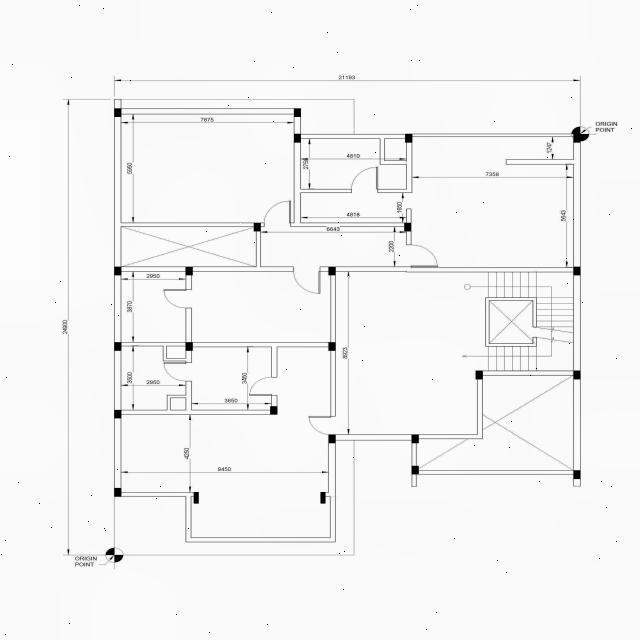Column: (573, 370, 581, 380), (475, 370, 483, 380), (328, 434, 336, 444), (411, 434, 419, 444), (114, 488, 122, 497), (320, 492, 326, 504), (573, 470, 581, 479), (114, 108, 122, 116), (114, 267, 122, 275), (185, 267, 193, 275), (114, 342, 122, 350), (185, 342, 193, 350), (405, 134, 413, 142), (328, 267, 336, 275), (328, 342, 336, 350), (114, 410, 122, 418), (270, 406, 278, 414), (404, 223, 412, 231), (573, 267, 581, 275), (573, 134, 581, 142), (294, 108, 301, 116), (294, 134, 301, 142), (254, 223, 261, 231), (194, 492, 198, 504), (412, 466, 418, 474)
Door: (294, 266, 320, 294), (351, 167, 378, 193), (264, 201, 291, 227), (407, 245, 438, 267), (164, 290, 192, 308), (164, 363, 192, 381), (249, 378, 277, 396), (308, 416, 336, 434)
Staircase: (478, 272, 574, 370)
